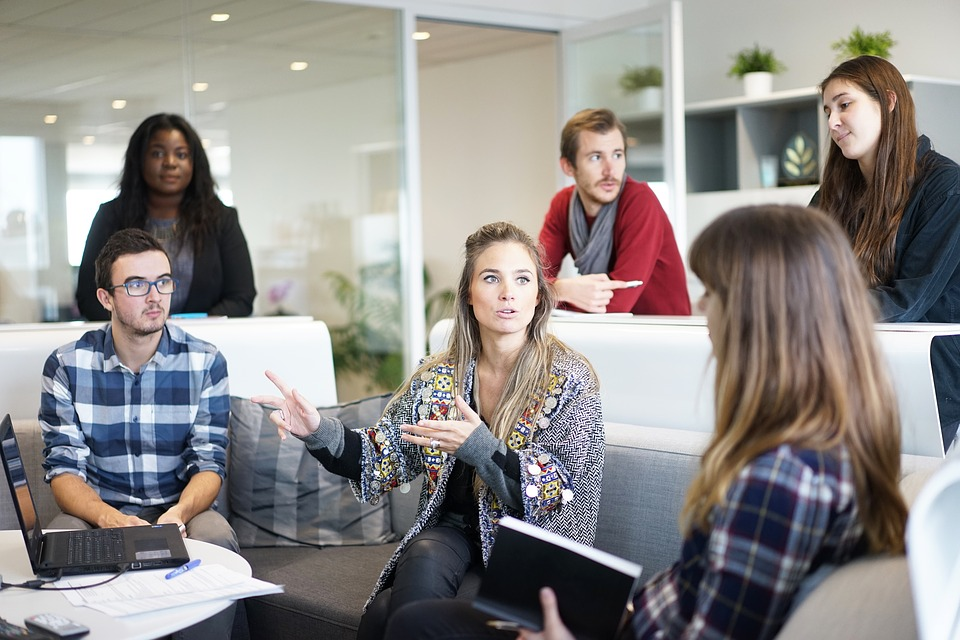person: (339, 222, 648, 591), (784, 28, 955, 461), (29, 220, 232, 579), (797, 38, 948, 332), (87, 243, 218, 464), (105, 112, 240, 326), (837, 89, 953, 312), (546, 109, 668, 315), (440, 232, 551, 457), (116, 285, 232, 478), (815, 59, 920, 261), (85, 231, 194, 397), (886, 113, 957, 302), (121, 264, 184, 375), (108, 238, 164, 344), (140, 276, 193, 375), (298, 417, 364, 495), (474, 231, 522, 329), (126, 244, 174, 340), (488, 233, 531, 339), (265, 404, 309, 505), (906, 125, 946, 235), (549, 252, 611, 322), (187, 338, 230, 431), (126, 245, 189, 307), (110, 244, 171, 305), (101, 235, 145, 318), (149, 261, 190, 344), (513, 260, 549, 354), (493, 238, 536, 316), (254, 397, 294, 479), (545, 244, 590, 316), (320, 425, 370, 488), (126, 259, 176, 318), (88, 237, 122, 320), (262, 385, 303, 452), (458, 443, 514, 489), (529, 257, 559, 340), (515, 243, 547, 320), (911, 127, 941, 209), (250, 397, 285, 465), (790, 453, 821, 528), (249, 367, 282, 435), (521, 246, 554, 314), (539, 254, 572, 321), (666, 558, 699, 624), (243, 385, 273, 455), (467, 445, 503, 501), (480, 445, 521, 494), (547, 361, 579, 423), (516, 392, 548, 453), (812, 498, 841, 563), (346, 438, 376, 498), (821, 497, 849, 561), (353, 425, 388, 476), (527, 583, 564, 631), (815, 492, 845, 551), (209, 451, 236, 516), (237, 385, 267, 443), (164, 418, 195, 470), (813, 520, 839, 574), (366, 441, 394, 488), (429, 451, 456, 499), (370, 450, 398, 496), (629, 581, 654, 631), (621, 587, 650, 628), (172, 426, 197, 469), (38, 434, 60, 480), (364, 432, 390, 470), (392, 448, 416, 489), (419, 412, 443, 452), (490, 489, 518, 523), (507, 487, 534, 522), (924, 136, 945, 181), (414, 452, 438, 491), (382, 451, 406, 490), (412, 461, 437, 498), (422, 462, 443, 504), (531, 489, 560, 519), (530, 479, 558, 510), (542, 478, 569, 510), (500, 486, 526, 519), (373, 466, 398, 498), (422, 453, 444, 489), (423, 393, 445, 429), (428, 459, 449, 495), (480, 488, 501, 524), (415, 442, 436, 477), (486, 492, 510, 522), (427, 450, 448, 484), (411, 453, 432, 487), (369, 427, 389, 460), (410, 438, 429, 472), (527, 494, 552, 519), (423, 442, 443, 473), (539, 493, 564, 517), (532, 498, 555, 522), (413, 483, 432, 511), (511, 500, 530, 525), (485, 497, 503, 518)
